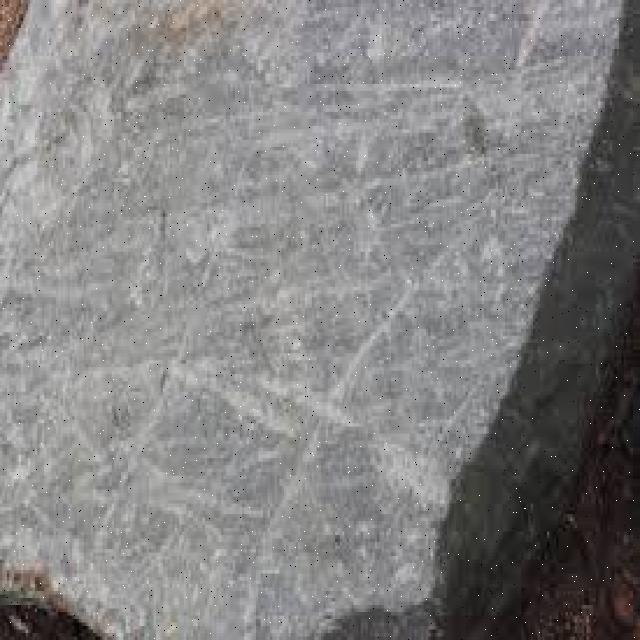Metamorphic: (7, 3, 586, 616)
